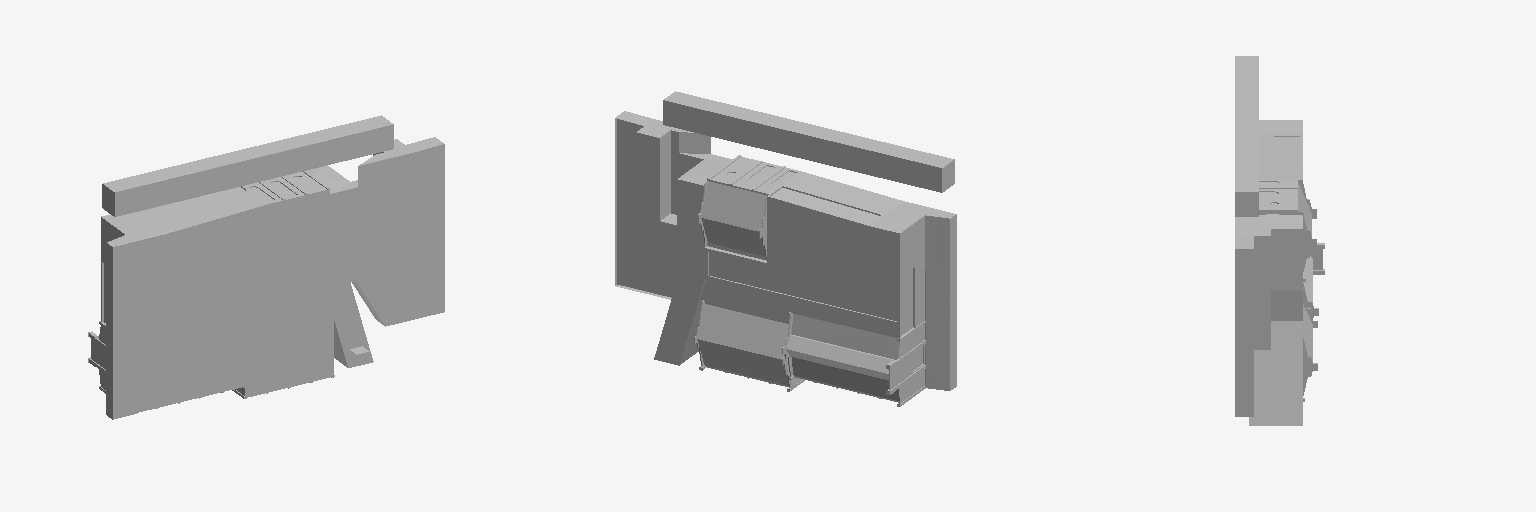
Rendered from Mazowieckie Centrum Sztuki Współczesnej „Elektrownia”.obj.
3 renders of one model, left to right at view 1: azimuth 30°, elevation 25°; view 2: azimuth 150°, elevation 25°; view 3: azimuth 270°, elevation 25°, orthographic.
Parts seen in each view (by area): view 1: Cube; view 2: Cube; view 3: Cube.
Boxes of the visible parts, x1=… form: Cube: x1=88, y1=115, x2=444, y2=419; Cube: x1=615, y1=91, x2=956, y2=406; Cube: x1=1235, y1=56, x2=1324, y2=425.
Bounding box in the file's own units: 0.0551 × 0.0381 × 0.013.